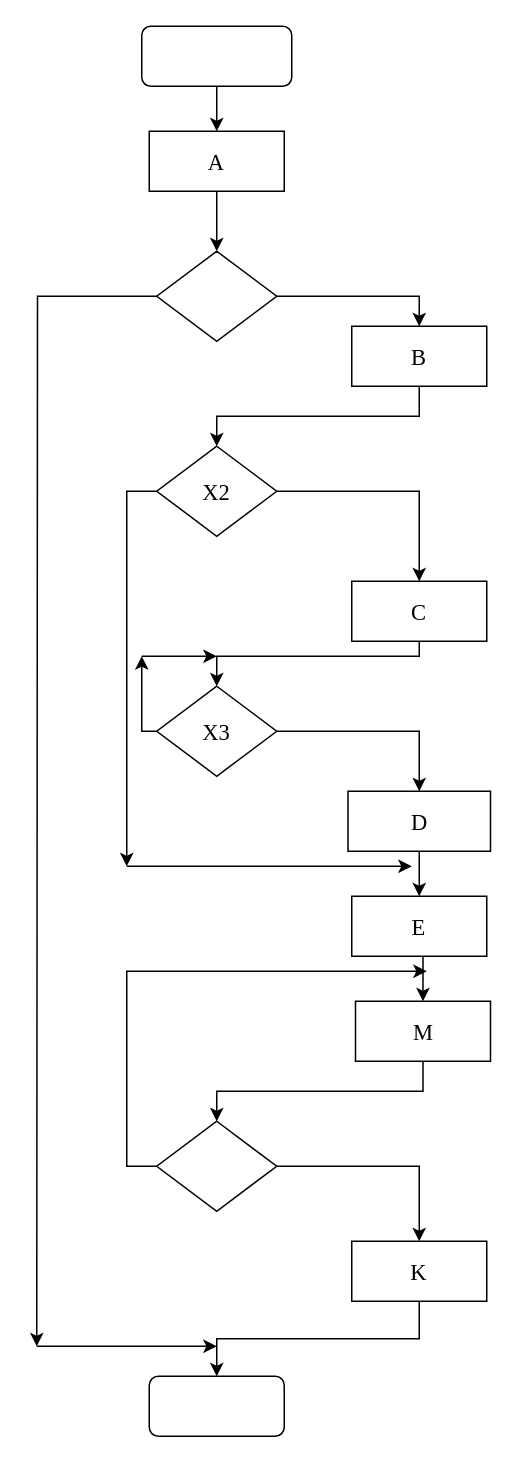
This 518x1463 diagram has some shape labels left out. The shapes that lost their labels are listed below. From the top down, each one's centre as x and y in pixels, then its label:
At (x=216, y=55): "Початок".
At (x=216, y=295): "X1".
At (x=216, y=1165): "X4".
At (x=216, y=1405): "Кінець".
